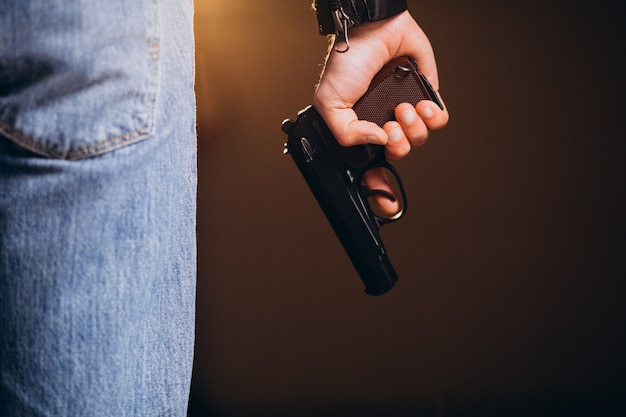gun: (280, 54, 445, 294)
